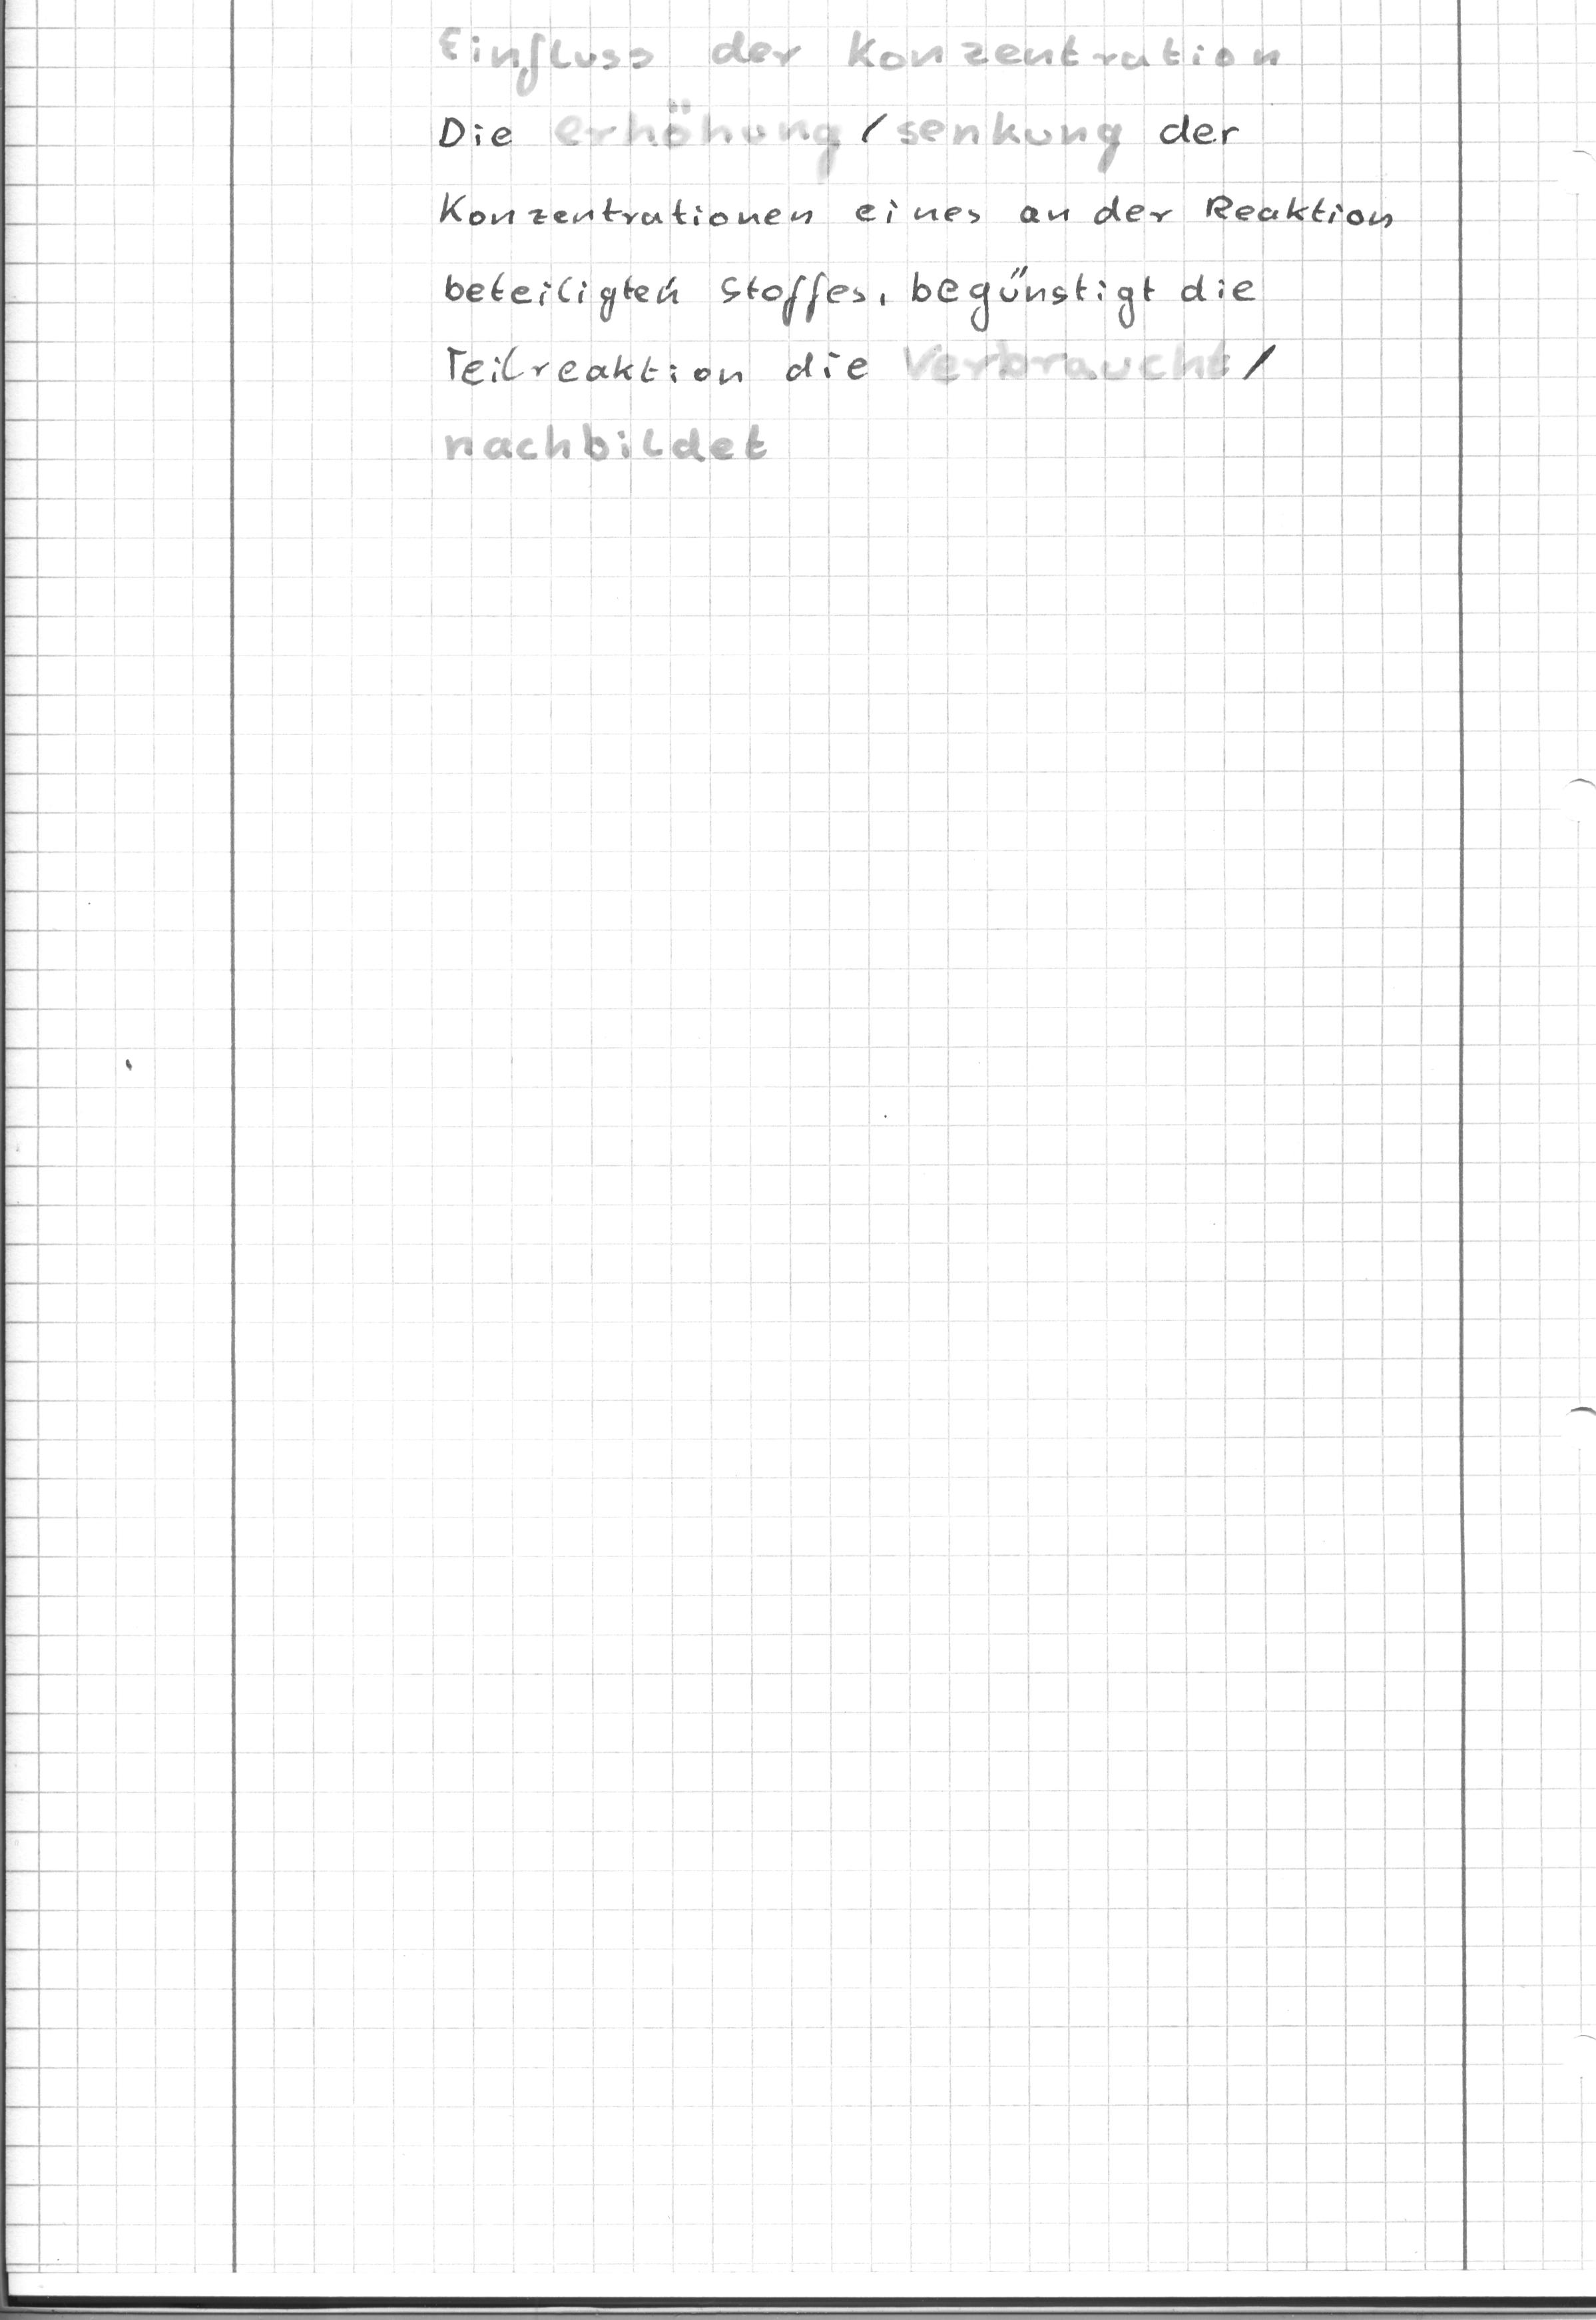word: (427, 106, 1406, 406)
